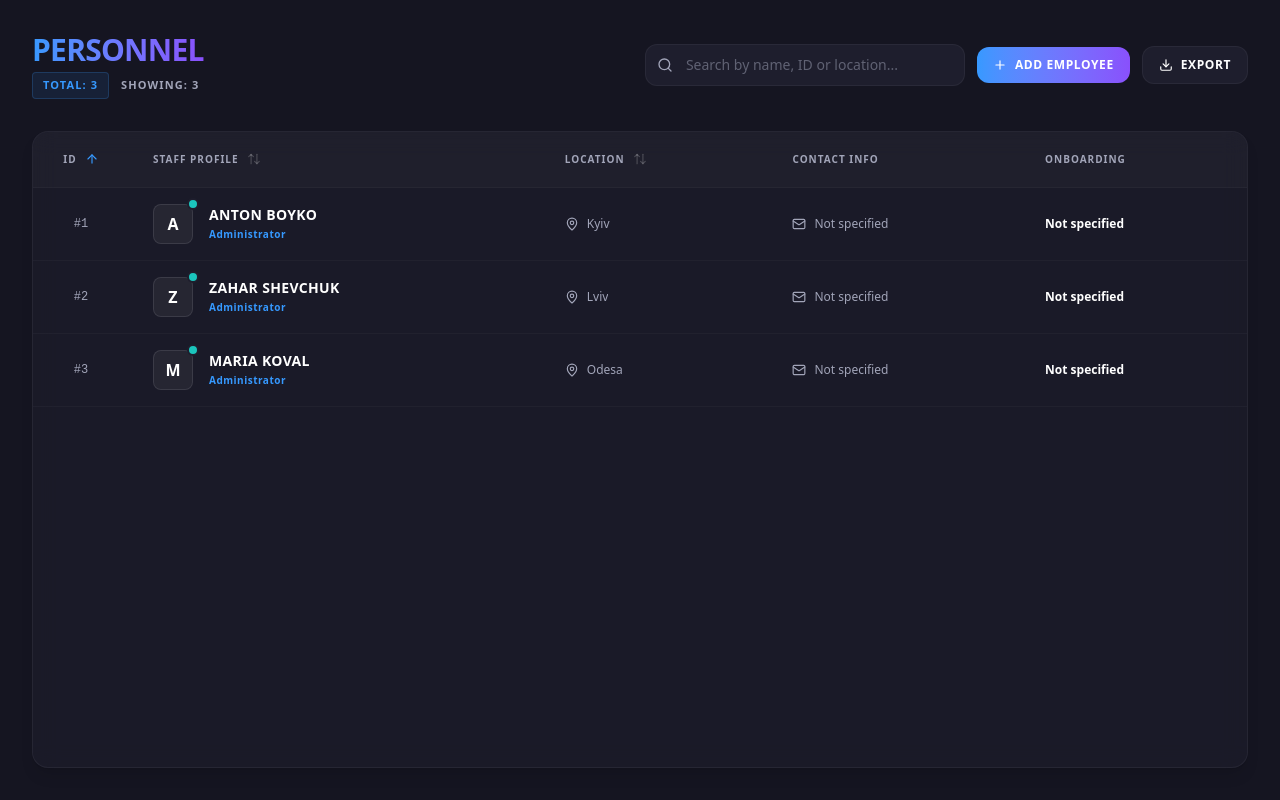
Test: Employees Component › filters employees by search term (name or location)
The image size is (1280, 800).
expect the heading "Anton Boyko" is shown: met, box [209,205,317,225]
Type "maria" into the field with placeholder "Search by name, ID or location..." at (805, 65), box [645,44,965,86]
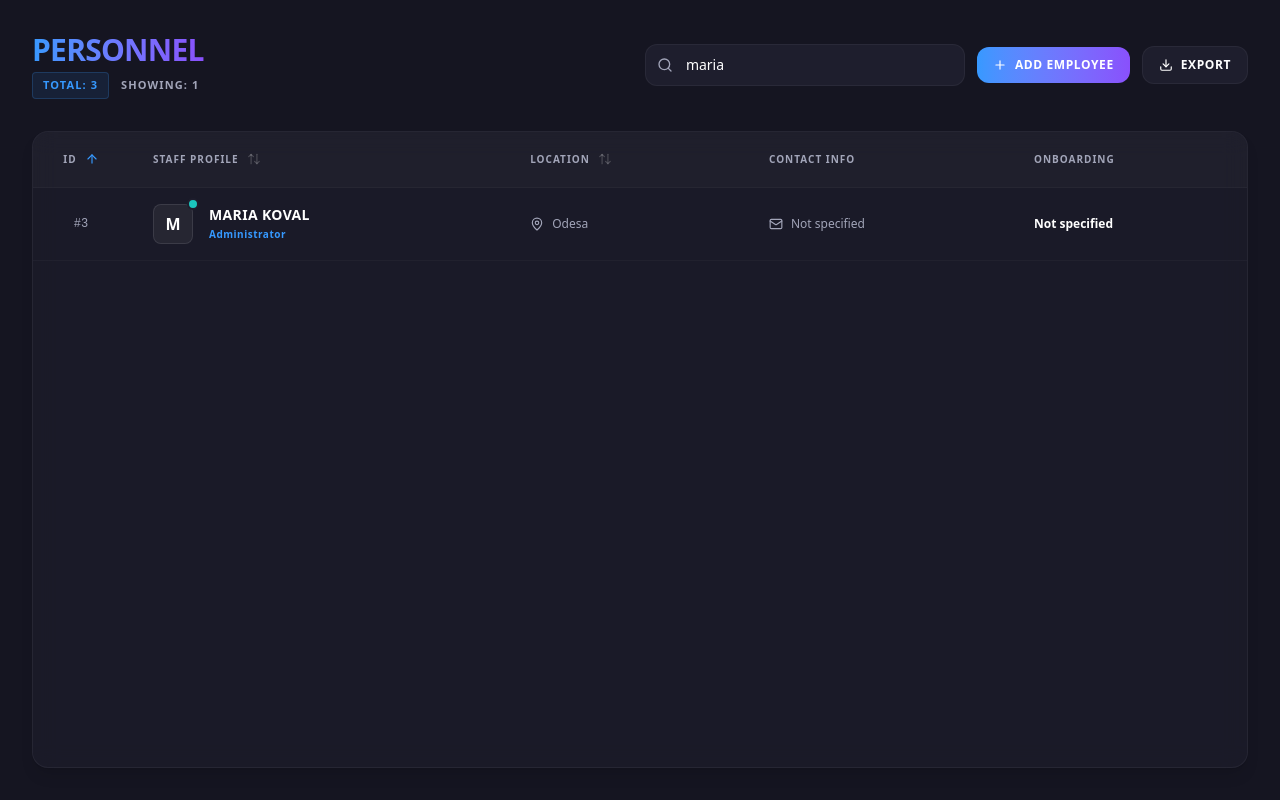
expect the heading "Maria Koval" is shown: met, box [209,205,310,225]
expect the heading "Anton Boyko" is gone: met
Replace the text in the field with placeholder "Search by name, ID or location..." with "lviv" at (805, 65), box [645,44,965,86]
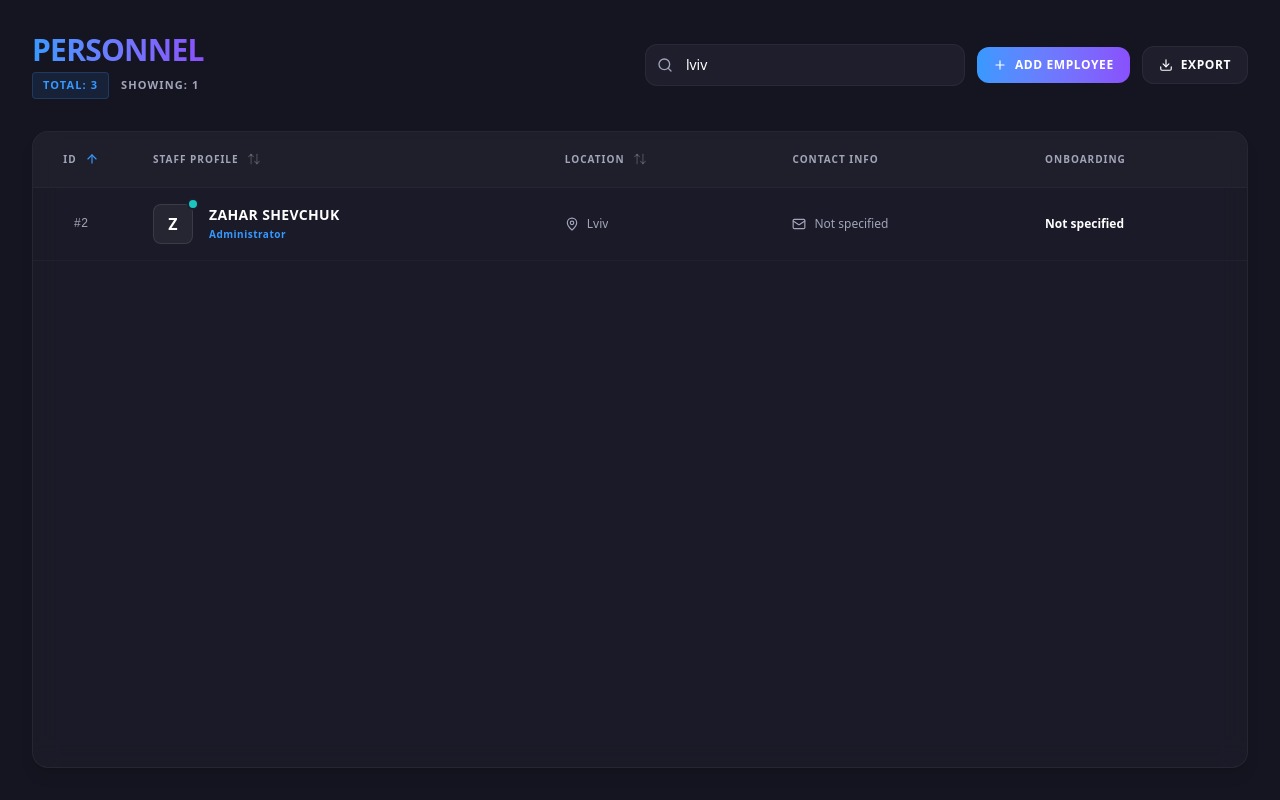
expect the heading "Zahar Shevchuk" is shown: met, box [209,205,340,225]
expect the heading "Maria Koval" is gone: met
